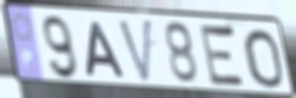8: (163, 20, 200, 88)
9: (39, 13, 80, 81)
A: (85, 20, 128, 81)
E: (198, 21, 249, 92)
O: (241, 27, 286, 90)
V: (116, 18, 155, 88)
